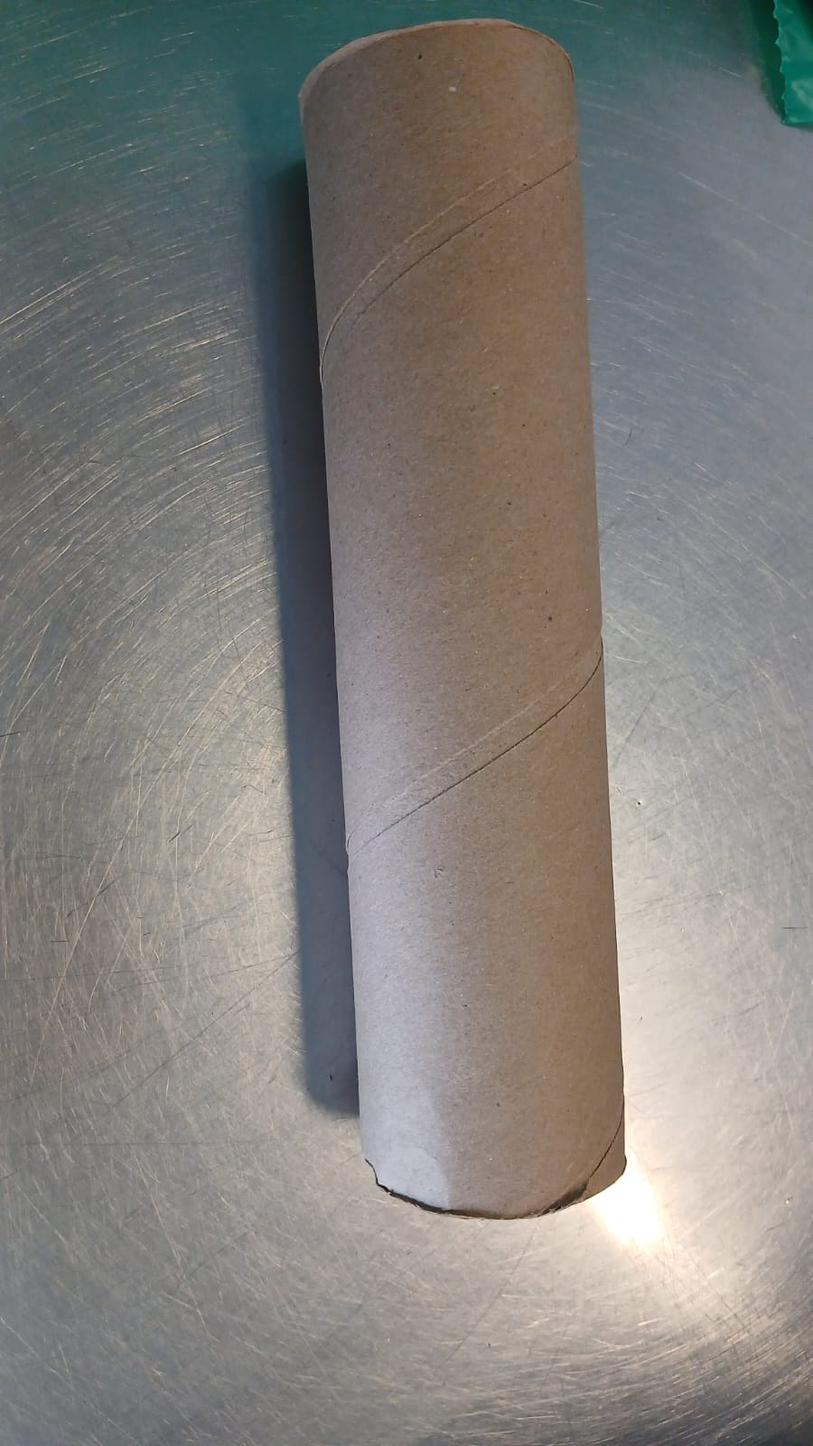Carton: (298, 22, 621, 1216)
